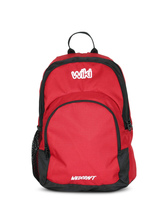bag: (27, 29, 142, 193)
